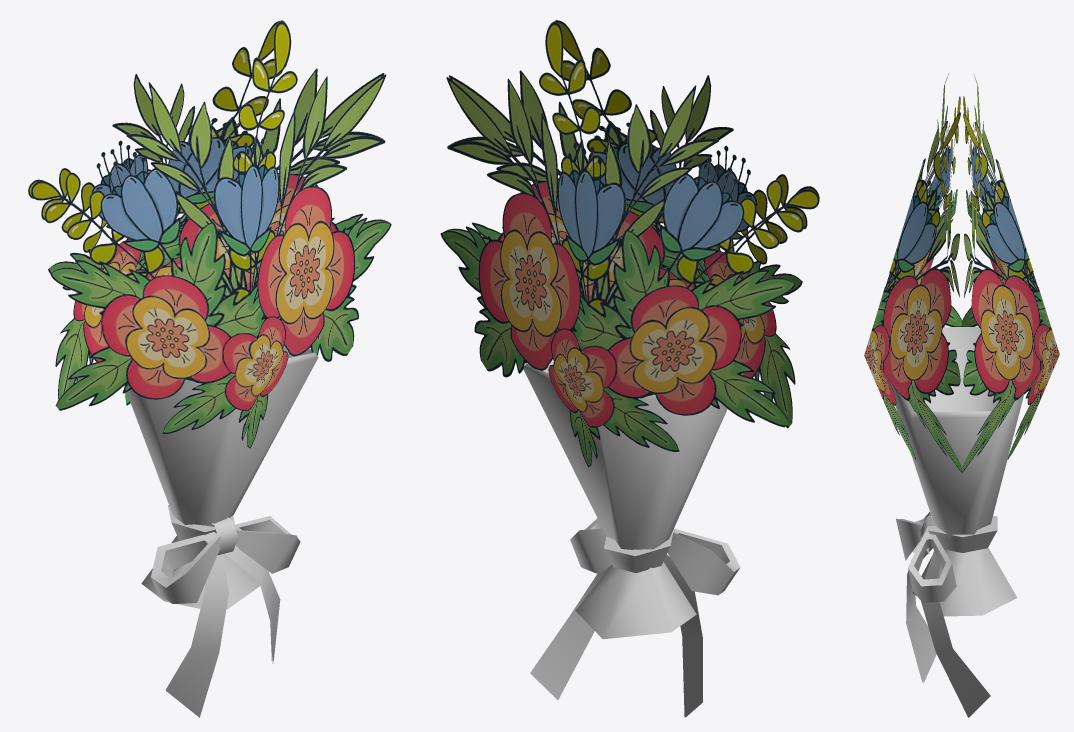
File: Bouquet_01.fbx
3 renders of one model, left to right at view 1: azimuth 30°, elevation 25°; view 2: azimuth 150°, elevation 25°; view 3: azimuth 270°, elevation 25°, orthographic. The views are drawn at different scales.
Parts seen in each view (by area): view 1: Bouquet_01; view 2: Bouquet_01; view 3: Bouquet_01.
Part boxes in pixels (x1,y1,x2,y2): Bouquet_01: (28, 20, 391, 717); Bouquet_01: (440, 20, 819, 717); Bouquet_01: (864, 74, 1059, 717).
Bounding box in the file's own units: 1.38 × 2.31 × 0.6421.
